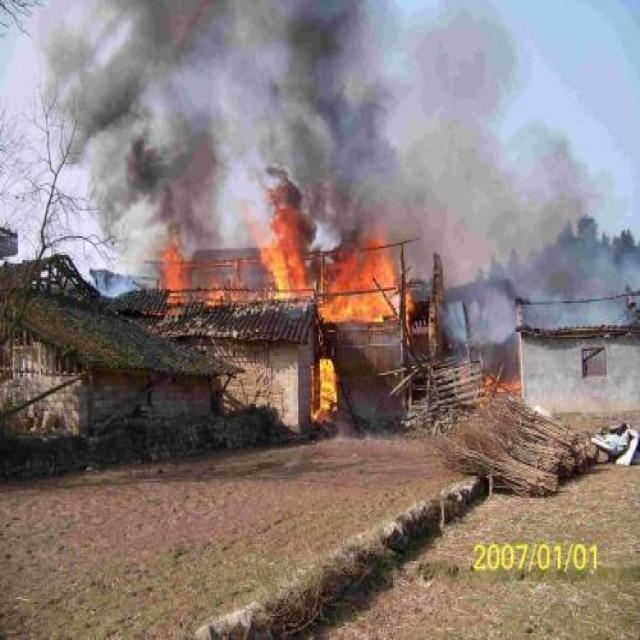Fire: (242, 196, 415, 334), (158, 239, 190, 303), (310, 356, 338, 421)
Smoke: (36, 2, 639, 332)
